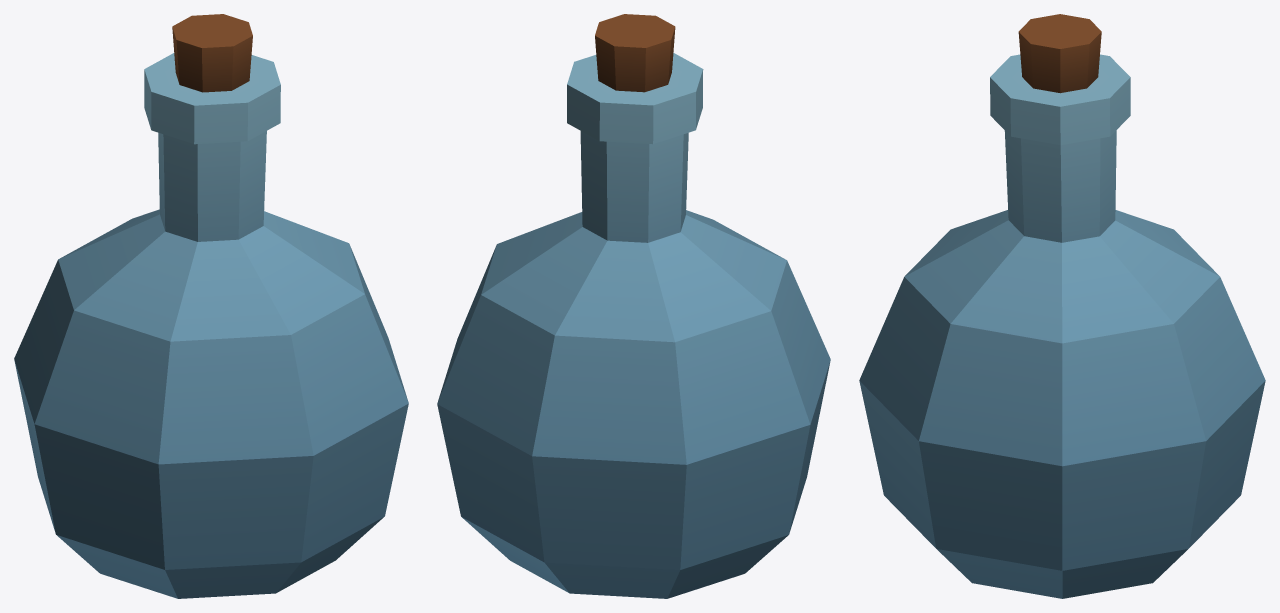
Rendered from potion_018_blue.fbx.
The picture shows the model from 3 angles, left to right: view 1: azimuth 30°, elevation 25°; view 2: azimuth 150°, elevation 25°; view 3: azimuth 270°, elevation 25°; orthographic projection.
Visible parts, largest first — view 1: potion_018_blue; view 2: potion_018_blue; view 3: potion_018_blue.
Boxes of the visible parts, x1,y1,x2,y2 form: potion_018_blue: (14,14,408,598); potion_018_blue: (437,14,830,598); potion_018_blue: (859,14,1265,598).
Size of the model in its own units: 0.1552 by 0.2163 by 0.1552.
